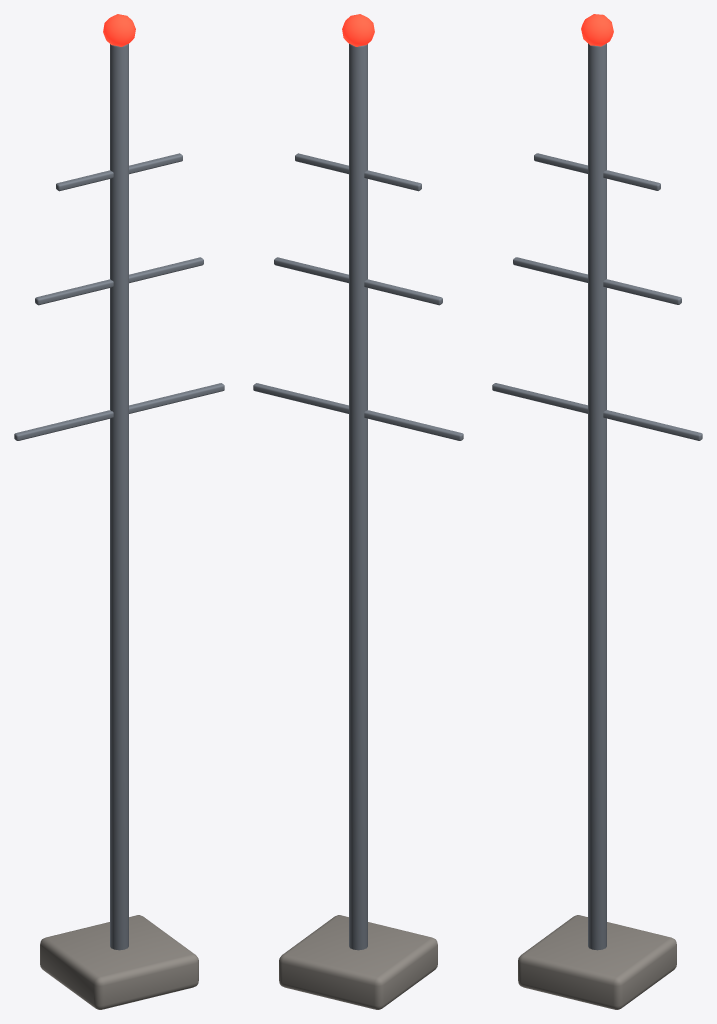
File: antena.glb
The picture shows the model from 3 angles, left to right: view 1: azimuth 30°, elevation 25°; view 2: azimuth 150°, elevation 25°; view 3: azimuth 330°, elevation 25°; orthographic projection.
Visible parts, largest first — view 1: Cylinder, Cube, Cube.001, Cube.002, Cube.003, antena_luz; view 2: Cylinder, Cube, Cube.001, Cube.002, Cube.003, antena_luz; view 3: Cylinder, Cube, Cube.001, Cube.002, Cube.003, antena_luz.
Part boxes in pixels (x1,y1,x2,y2): Cylinder: [110, 44, 128, 950]; Cube: [40, 915, 198, 1009]; Cube.001: [14, 383, 224, 440]; Cube.002: [35, 257, 203, 305]; Cube.003: [56, 153, 182, 191]; antena_luz: [103, 14, 135, 46]; Cylinder: [349, 44, 367, 950]; Cube: [279, 915, 437, 1009]; Cube.001: [253, 383, 463, 440]; Cube.002: [274, 257, 442, 305]; Cube.003: [295, 153, 421, 191]; antena_luz: [342, 14, 374, 46]; Cylinder: [588, 43, 606, 950]; Cube: [518, 915, 676, 1009]; Cube.001: [492, 383, 702, 440]; Cube.002: [513, 257, 681, 304]; Cube.003: [534, 153, 660, 190]; antena_luz: [581, 14, 613, 46].
Size of the model in its own units: 1 by 4.42 by 0.5.
